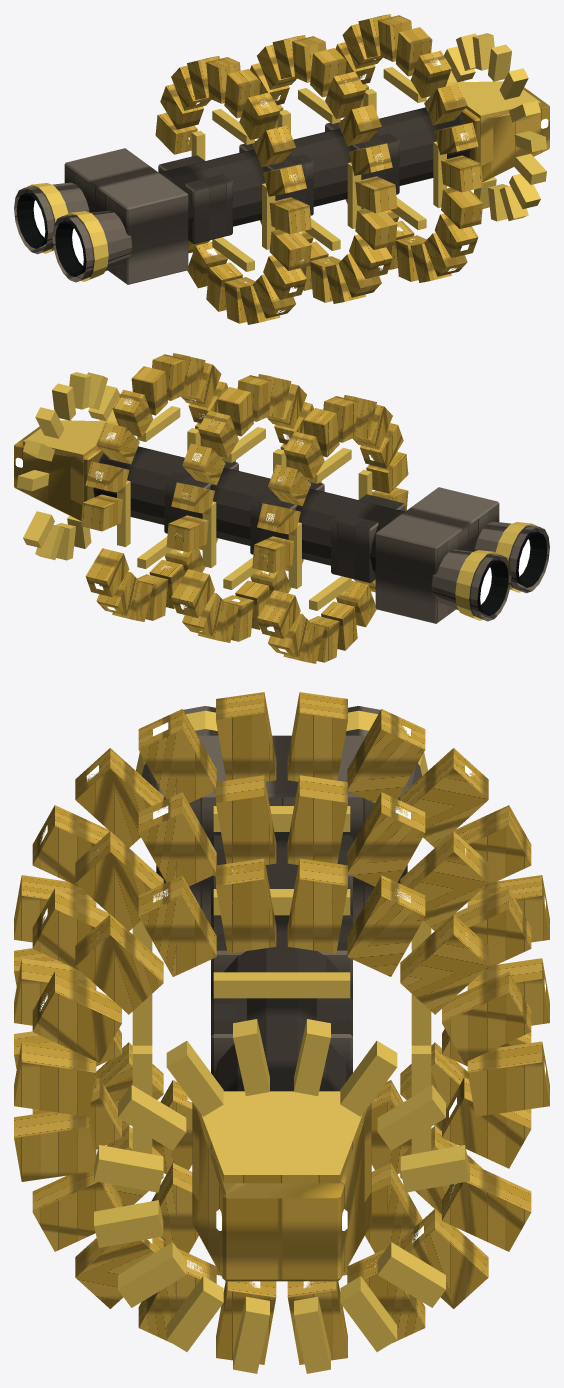
File: colony_ark.glb
The picture shows the model from 3 angles, top to bottom: view 1: azimuth 30°, elevation 25°; view 2: azimuth 150°, elevation 25°; view 3: azimuth 270°, elevation 25°; orthographic projection. The views are drawn at different scales.
Visible parts, largest first — view 1: ark_hull, habitat_ring_3, habitat_ring_2, habitat_ring_1; view 2: ark_hull, habitat_ring_3, habitat_ring_2, habitat_ring_1; view 3: ark_hull, habitat_ring_1, habitat_ring_2, habitat_ring_3.
Part boxes in pixels (x1,y1,x2,y2): ark_hull: (14, 33, 549, 284); habitat_ring_3: (155, 56, 311, 324); habitat_ring_2: (250, 35, 397, 303); habitat_ring_1: (335, 14, 482, 282); ark_hull: (14, 372, 549, 623); habitat_ring_3: (252, 395, 408, 663); habitat_ring_2: (166, 374, 321, 642); habitat_ring_1: (81, 353, 235, 621); ark_hull: (94, 706, 469, 1373); habitat_ring_1: (14, 858, 549, 1364); habitat_ring_2: (14, 775, 549, 1275); habitat_ring_3: (14, 692, 549, 1174).
Bounding box in the file's own units: 70 × 33.63 × 33.63.
1 material, 1 textured.
